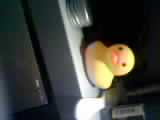duck: (79, 33, 133, 100)
